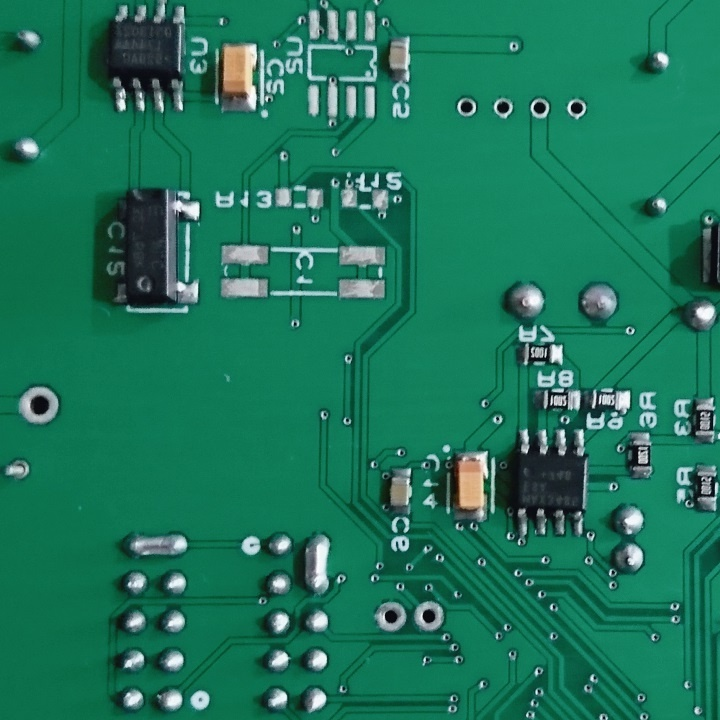F: (15, 382, 64, 427), (410, 598, 449, 638), (371, 597, 410, 636), (1, 456, 35, 483), (489, 95, 516, 123), (564, 95, 590, 121), (527, 95, 552, 122), (454, 94, 480, 119)
P: (118, 526, 191, 561), (299, 529, 334, 598)
